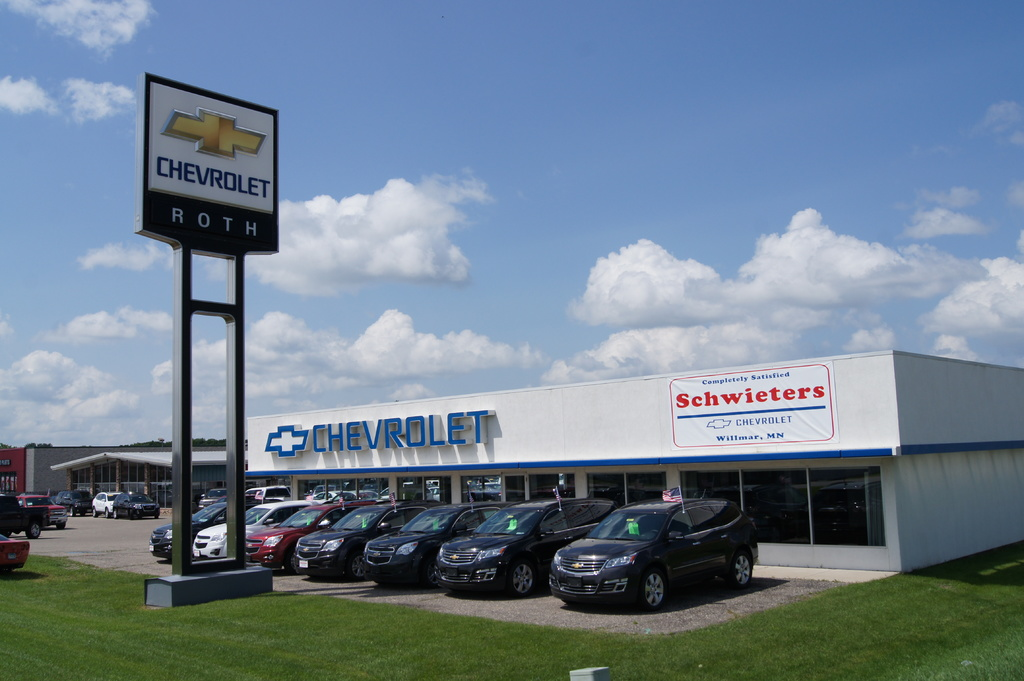Car: (546, 502, 769, 611), (434, 496, 616, 595), (359, 497, 519, 581), (292, 503, 428, 577), (243, 500, 352, 572), (192, 497, 293, 555), (147, 499, 245, 558), (304, 480, 501, 498), (18, 492, 69, 528), (0, 528, 31, 566), (115, 491, 162, 515), (242, 481, 289, 503), (64, 488, 90, 515), (91, 488, 115, 517), (197, 485, 223, 508)
